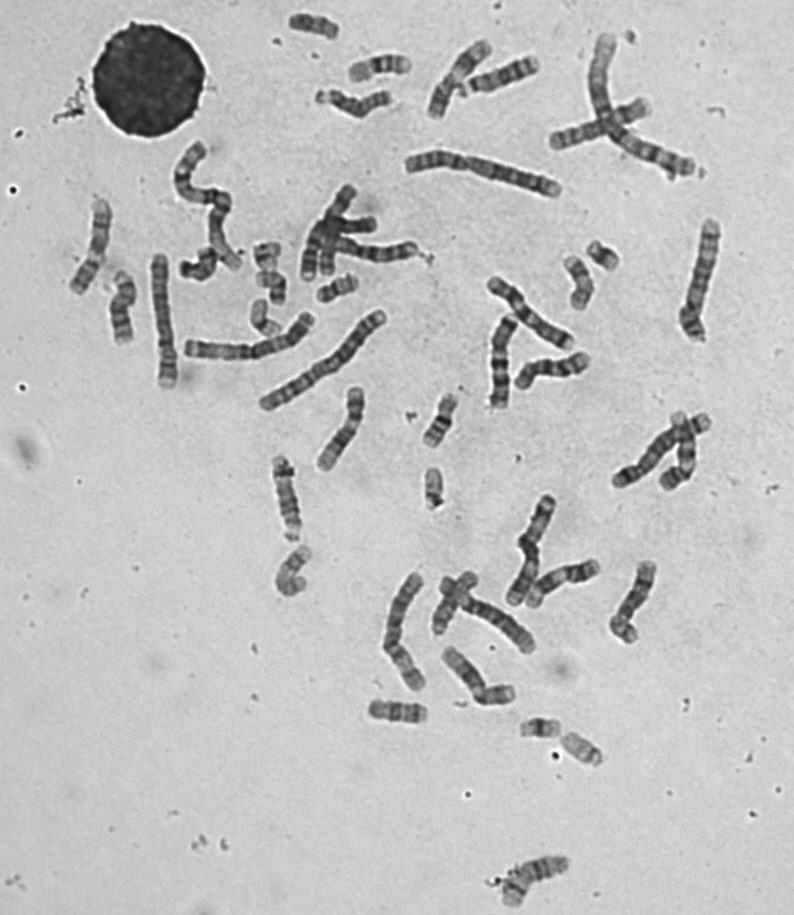chromosomes: (582, 22, 719, 188), (255, 300, 397, 416), (163, 132, 249, 275), (606, 403, 728, 497), (397, 143, 568, 205), (436, 570, 544, 658), (479, 271, 585, 358), (180, 305, 324, 365), (372, 566, 433, 702), (670, 208, 726, 351), (547, 91, 660, 154), (504, 487, 561, 610), (425, 33, 501, 124), (142, 245, 186, 393), (64, 186, 120, 298), (436, 638, 520, 710), (298, 213, 380, 286), (605, 555, 667, 649), (492, 849, 579, 915), (454, 46, 556, 99), (313, 381, 371, 473), (514, 339, 604, 396), (262, 451, 313, 546), (523, 555, 603, 614), (426, 562, 484, 643), (318, 180, 364, 281), (483, 309, 524, 421), (655, 402, 702, 497), (309, 80, 402, 127), (265, 537, 323, 607), (417, 381, 465, 457), (343, 46, 425, 88), (352, 693, 440, 732), (316, 236, 430, 266), (555, 723, 615, 777), (108, 267, 142, 354), (281, 4, 351, 45), (557, 246, 598, 312), (176, 238, 228, 283), (242, 292, 288, 341), (417, 458, 455, 517), (581, 231, 625, 277), (314, 271, 363, 309), (512, 712, 567, 743), (250, 270, 292, 309), (253, 233, 290, 275)
